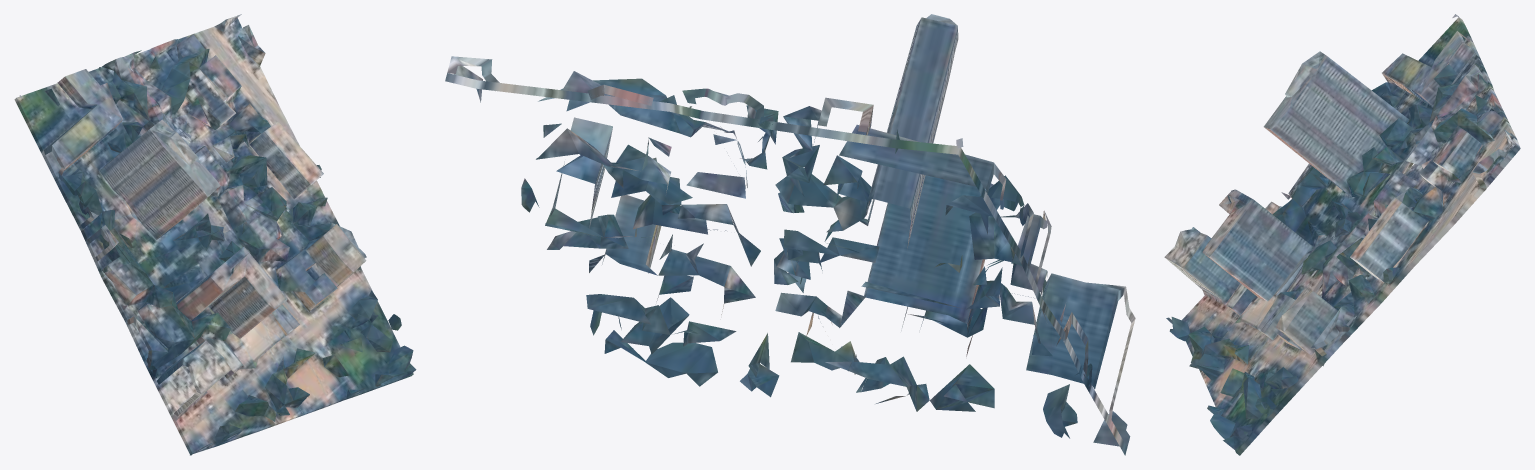
Rendered from AJVsH2xBLhmOLLXMwZ9fohraL8IAX_sUheoRceofHAf_PyMZo8_NEW5DxTDX2wM3yGTWuV6tIn9ZekgAcPFJLLdgJe9ps_6OO_GZgqAmLvdx9RIsYlzmHpTOYGiDhoLkLYvCtSl1gwvFa7bOy_5e4EenDs-ayJhc1A.glb.
3 renders of one model, left to right at view 1: azimuth 30°, elevation 25°; view 2: azimuth 150°, elevation 25°; view 3: azimuth 270°, elevation 25°, orthographic. The views are drawn at different scales.
Size of the model in its own units: 257 by 238 by 256.
2 materials, 2 textured.
